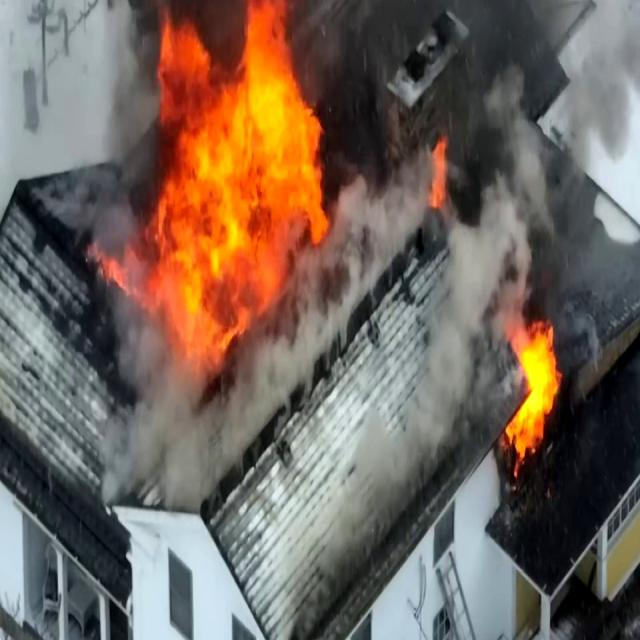fire: (153, 15, 342, 207), (104, 232, 270, 384), (238, 0, 308, 218), (502, 336, 571, 486)
